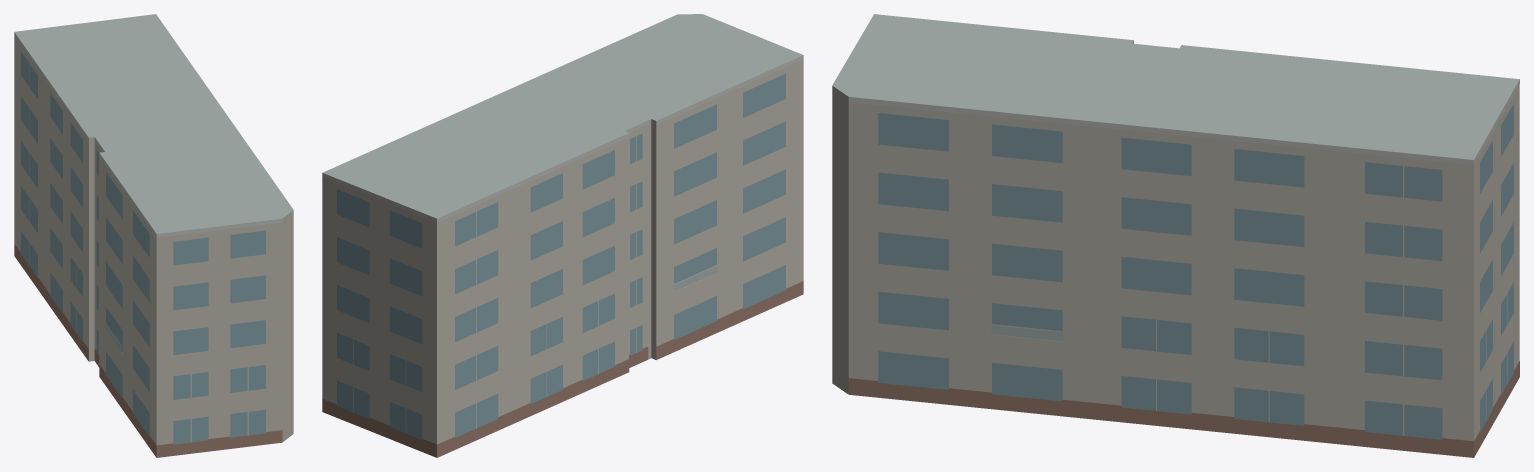
File: survey-upis-32528522.glb
The picture shows the model from 3 angles, left to right: view 1: azimuth 30°, elevation 25°; view 2: azimuth 150°, elevation 25°; view 3: azimuth 270°, elevation 25°; orthographic projection. The views are drawn at different scales.
Parts seen in each view (by area): view 1: survey-upis-32528522.tmp; view 2: survey-upis-32528522.tmp; view 3: survey-upis-32528522.tmp.
Boxes of the visible parts, <box> form: survey-upis-32528522.tmp: <box>14,14,293,457</box>; survey-upis-32528522.tmp: <box>322,14,803,457</box>; survey-upis-32528522.tmp: <box>832,14,1519,457</box>.
Size of the model in its own units: 14.83 by 14.1 by 29.51.
